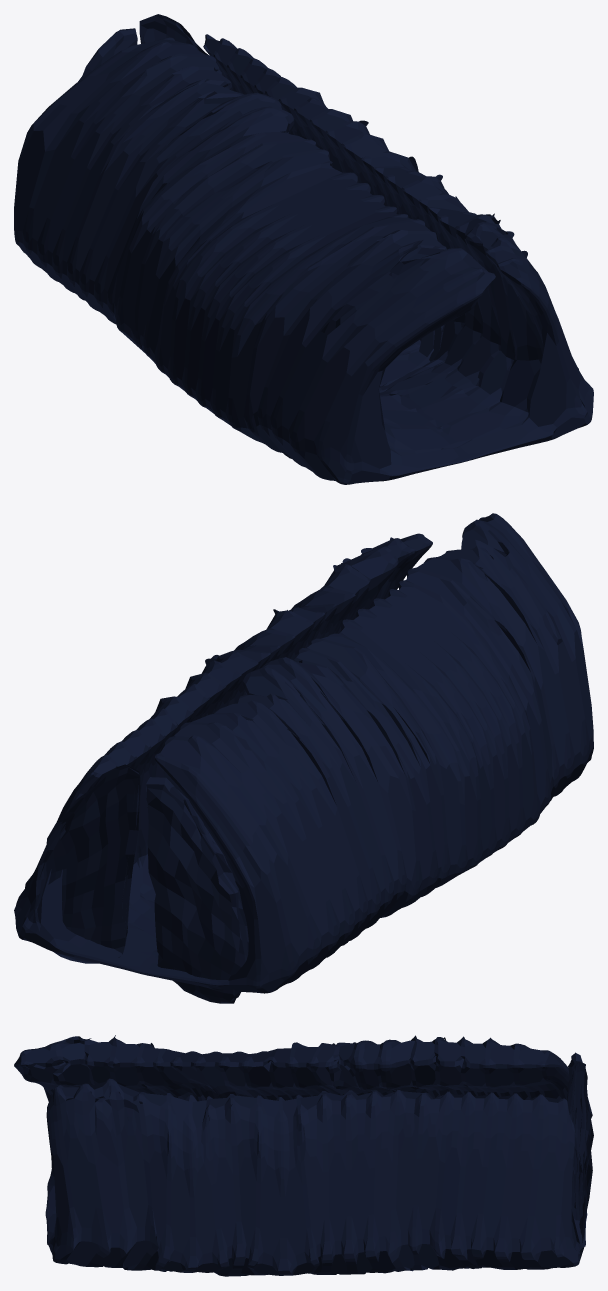
File: cave inside.fbx
3 renders of one model, top to bottom at view 1: azimuth 30°, elevation 25°; view 2: azimuth 150°, elevation 25°; view 3: azimuth 270°, elevation 25°, orthographic. The views are drawn at different scales.
Parts seen in each view (by area): view 1: Cave; view 2: Cave; view 3: Cave.
Boxes of the visible parts, left/top/right/bottom form: Cave: left=14, top=14, right=593, bottom=484; Cave: left=14, top=513, right=593, bottom=1003; Cave: left=14, top=1035, right=593, bottom=1276.
Size of the model in its own units: 44.47 by 32.16 by 90.16.
